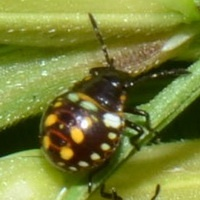insect: (40, 14, 199, 191)
